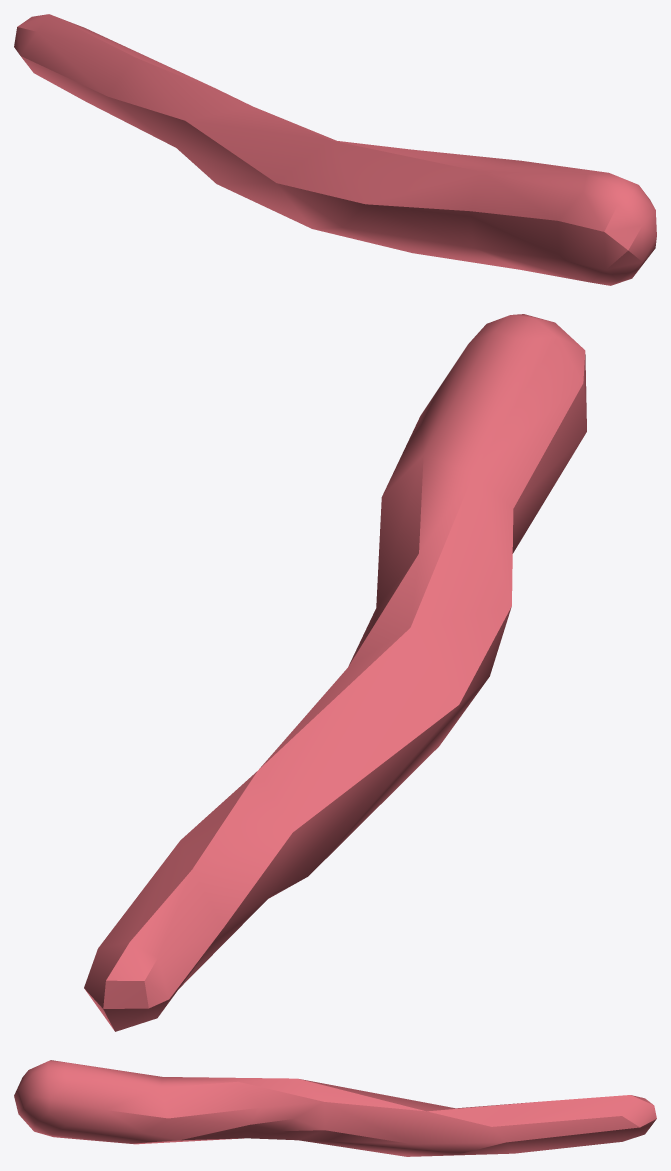
File: fma4713_fj2691.glb
3 renders of one model, top to bottom at view 1: azimuth 30°, elevation 25°; view 2: azimuth 150°, elevation 25°; view 3: azimuth 270°, elevation 25°, orthographic. The views are drawn at different scales.
Parts seen in each view (by area): view 1: FMA4713_FJ2691; view 2: FMA4713_FJ2691; view 3: FMA4713_FJ2691.
Part boxes in pixels (left/top/right/bottom): FMA4713_FJ2691: left=14, top=14, right=656, bottom=285; FMA4713_FJ2691: left=84, top=314, right=586, bottom=1031; FMA4713_FJ2691: left=14, top=1060, right=656, bottom=1156.
Bounding box in the file's own units: 0.00228 × 0.00188 × 0.00883.
